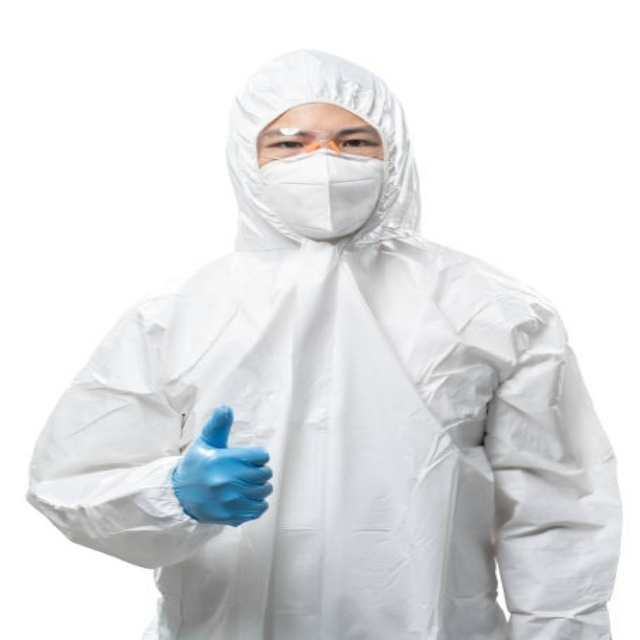Gafas: (261, 128, 382, 159)
Guantes: (173, 404, 274, 526)
Mascara: (254, 148, 386, 239)
